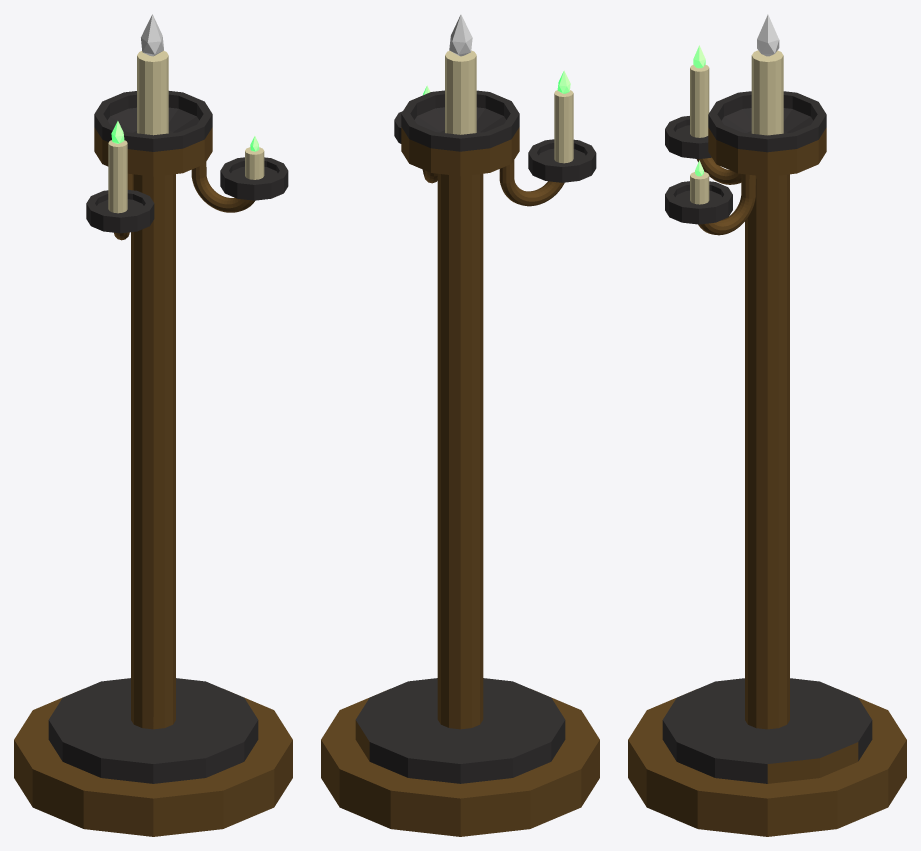
Rendered from SM_SM_Light_01.fbx.
3 views of the same model, side by side, from view 1: azimuth 30°, elevation 25°; view 2: azimuth 150°, elevation 25°; view 3: azimuth 270°, elevation 25° (orthographic).
Visible parts, largest first — view 1: SM_Light_01; view 2: SM_Light_01; view 3: SM_Light_01.
Boxes of the visible parts, box(x1,y1,x2,y2) form: SM_Light_01: box(14, 14, 292, 836); SM_Light_01: box(321, 14, 599, 836); SM_Light_01: box(628, 14, 906, 836).
Size of the model in its own units: 79.56 by 241 by 79.56.
